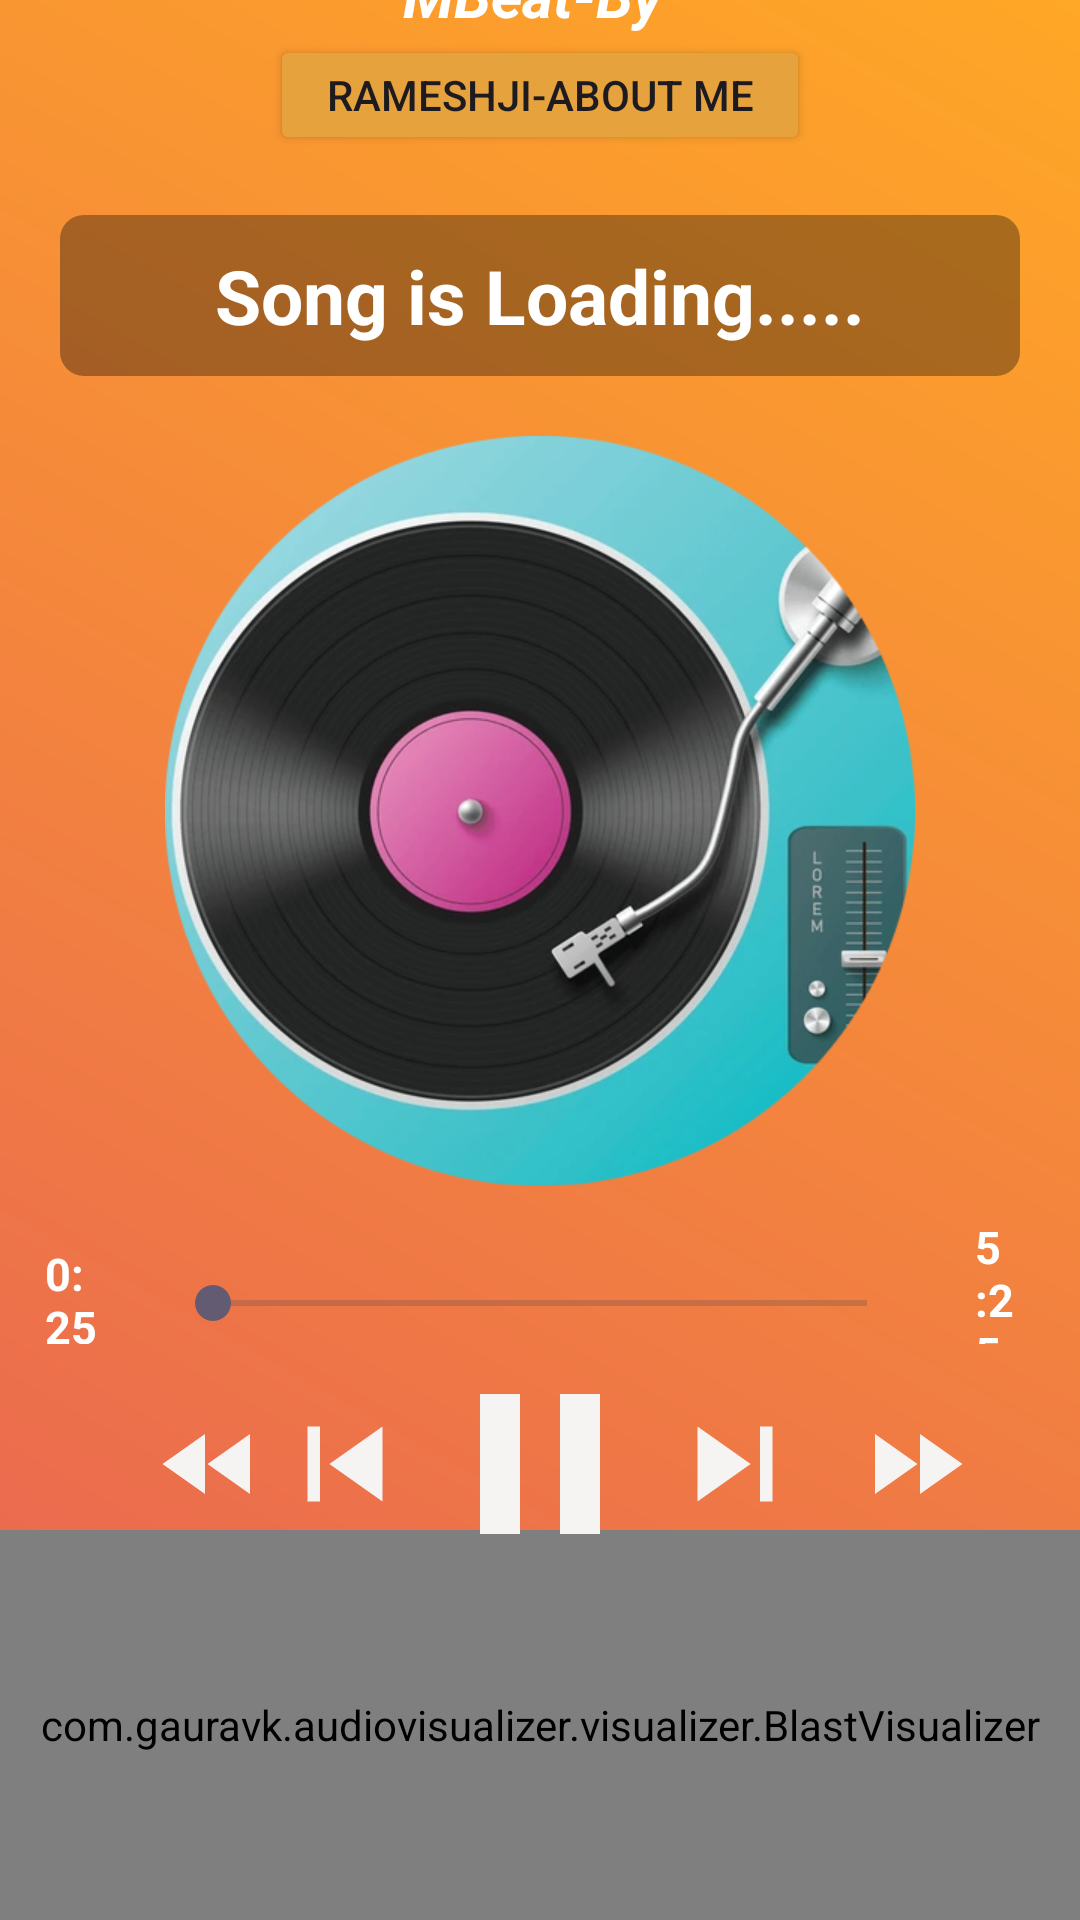

Screen size 1080×1920. Icon name, then its center in pixels as [x,y]:
fastforward: [918,1464]
next: [735,1464]
pause: [540,1464]
previous: [345,1464]
rewind: [206,1464]
